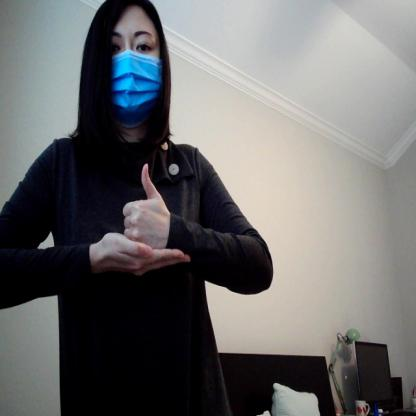help: (83, 159, 196, 277)
